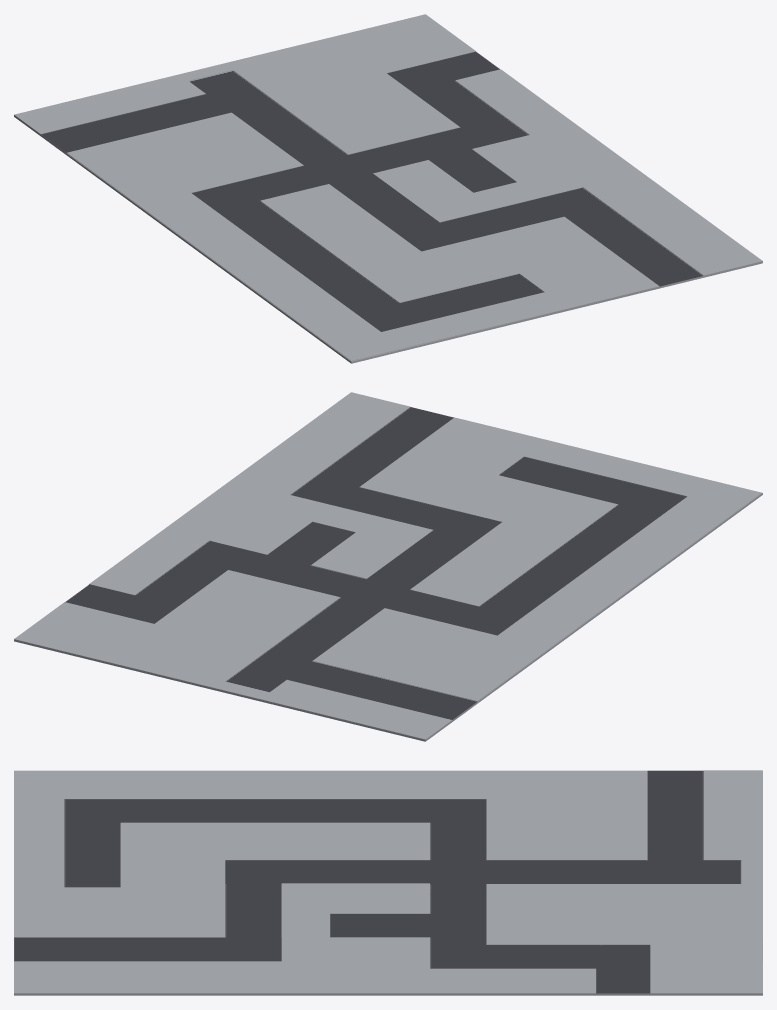
The model's file is level_1.fbx.
3 renders of one model, top to bottom at view 1: azimuth 30°, elevation 25°; view 2: azimuth 150°, elevation 25°; view 3: azimuth 270°, elevation 25°, orthographic. The views are drawn at different scales.
Parts seen in each view (by area): view 1: sidewalk, 1 base.001; view 2: sidewalk, 1 base.001; view 3: sidewalk, 1 base.001.
Boxes of the visible parts, bbox=[...] form: sidewalk: bbox=[14, 14, 762, 361]; 1 base.001: bbox=[15, 51, 762, 363]; sidewalk: bbox=[14, 392, 761, 740]; 1 base.001: bbox=[14, 407, 762, 741]; sidewalk: bbox=[14, 770, 762, 995]; 1 base.001: bbox=[14, 770, 762, 995].
Bounding box in the file's own units: 443 × 629 × 2.3.
